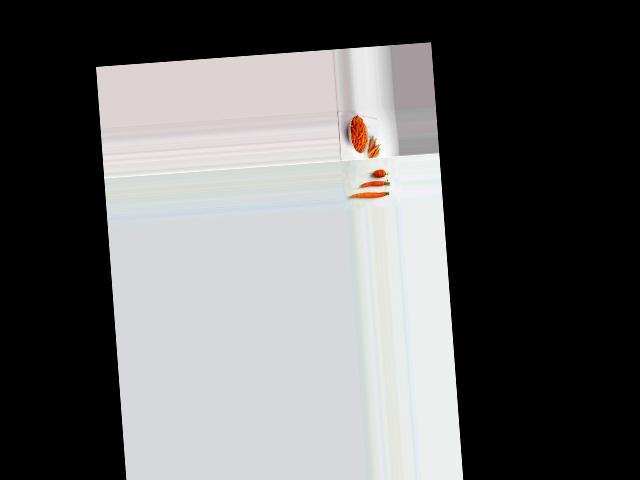carrot: (369, 168, 389, 177)
